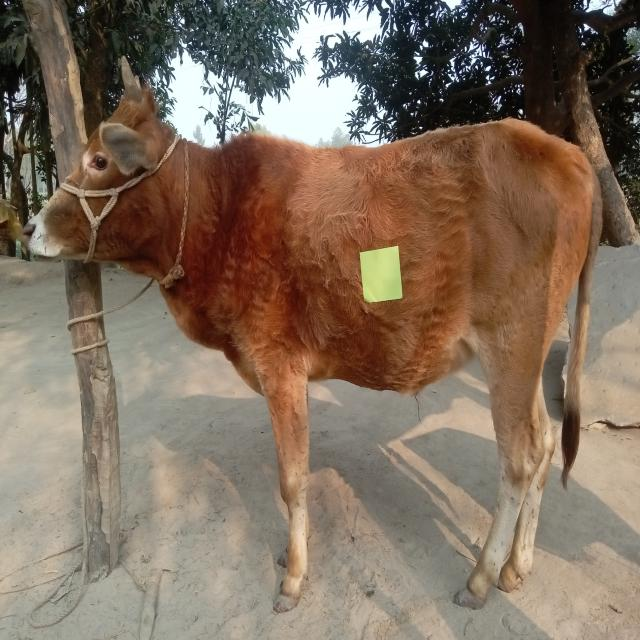badan_sapi: (239, 114, 592, 397)
sapi: (12, 49, 612, 613)
